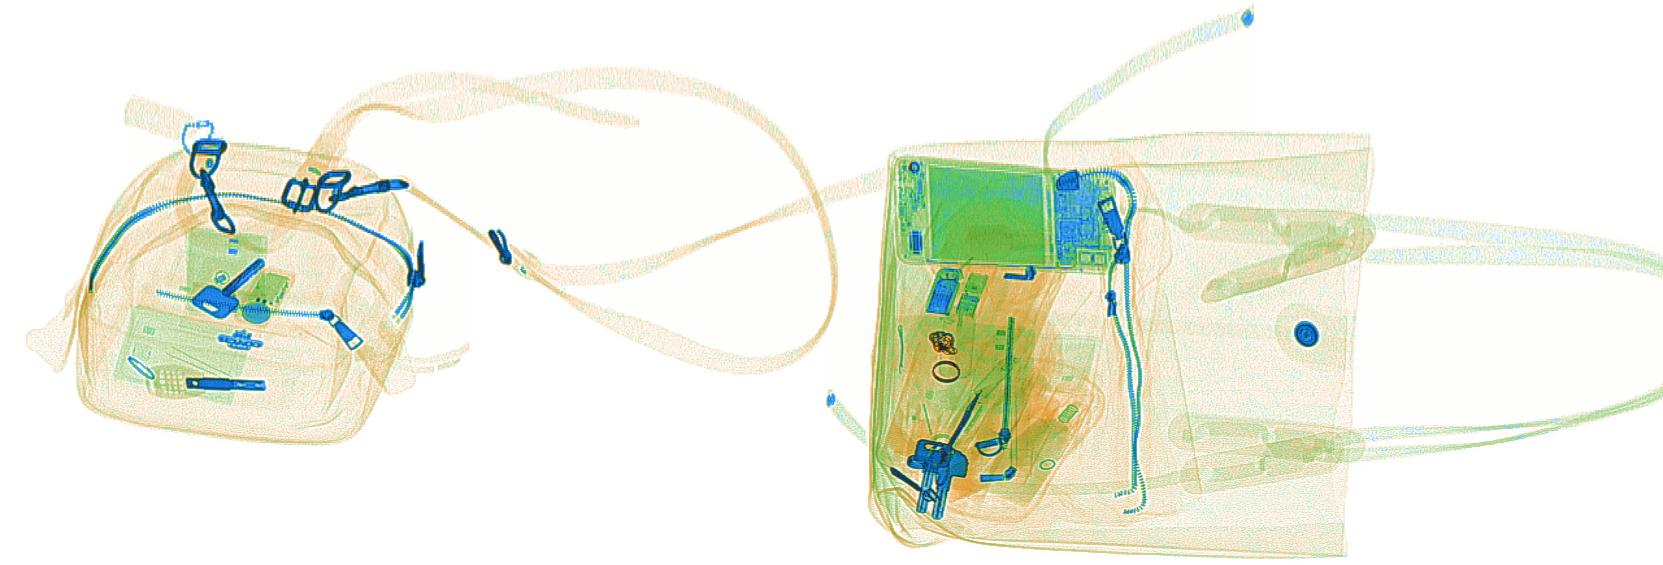USBFlashDisk: (920, 264, 964, 317), (952, 270, 992, 318)
plasticBottleWithaNozzle: (983, 377, 1098, 509)
